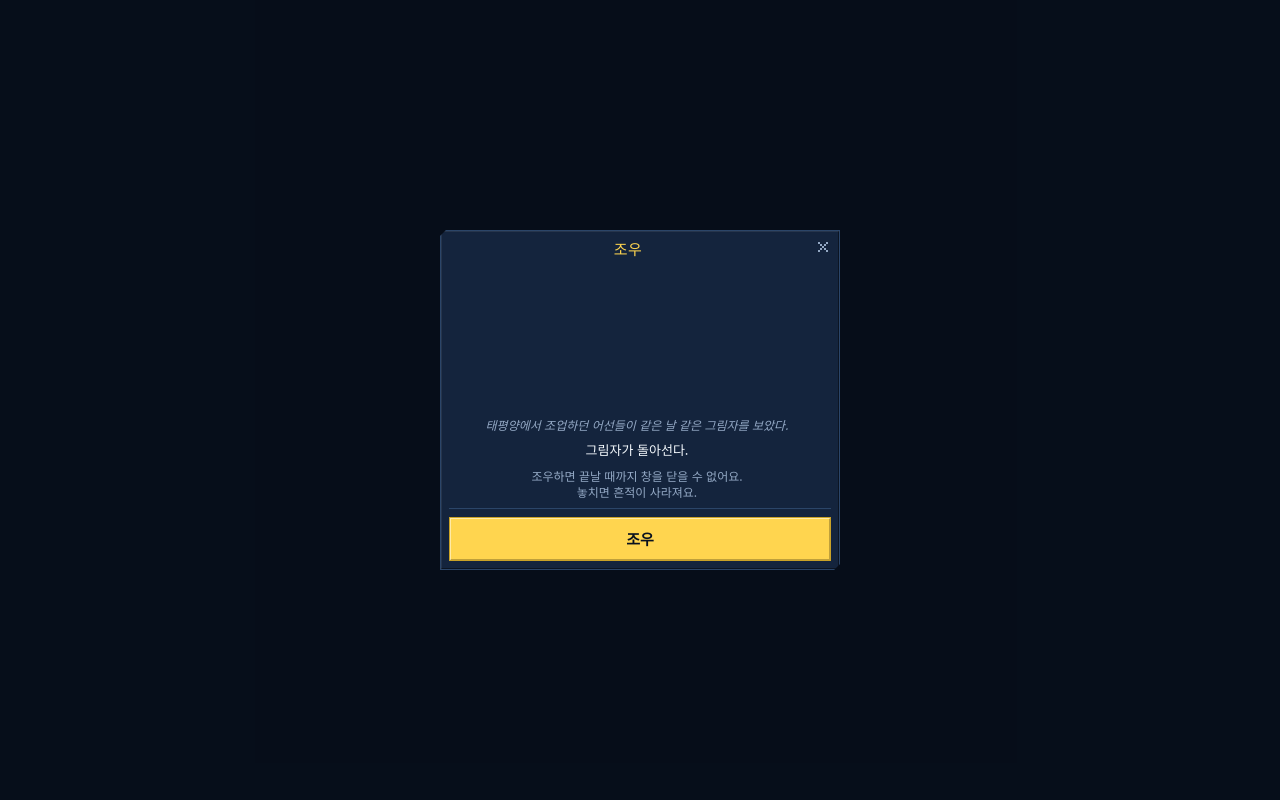
EncounterModal › 들어가며 — 목격담과 그림자, 이름은 부르지 않는다. 조우를 눌러야 바가 돈다
The width and height of the screenshot is (1280, 800).
Expected: the text "태평양에서 조업하던 어선들이 같은 날 같은 그림자를 보았다." is shown, x1=486 y1=416 x2=788 y2=434
Expected: the text "그림자가 돌아선다." is shown, x1=586 y1=440 x2=688 y2=460
Click the button "조우" at point(640, 539), box x1=449 y1=517 x2=831 y2=561
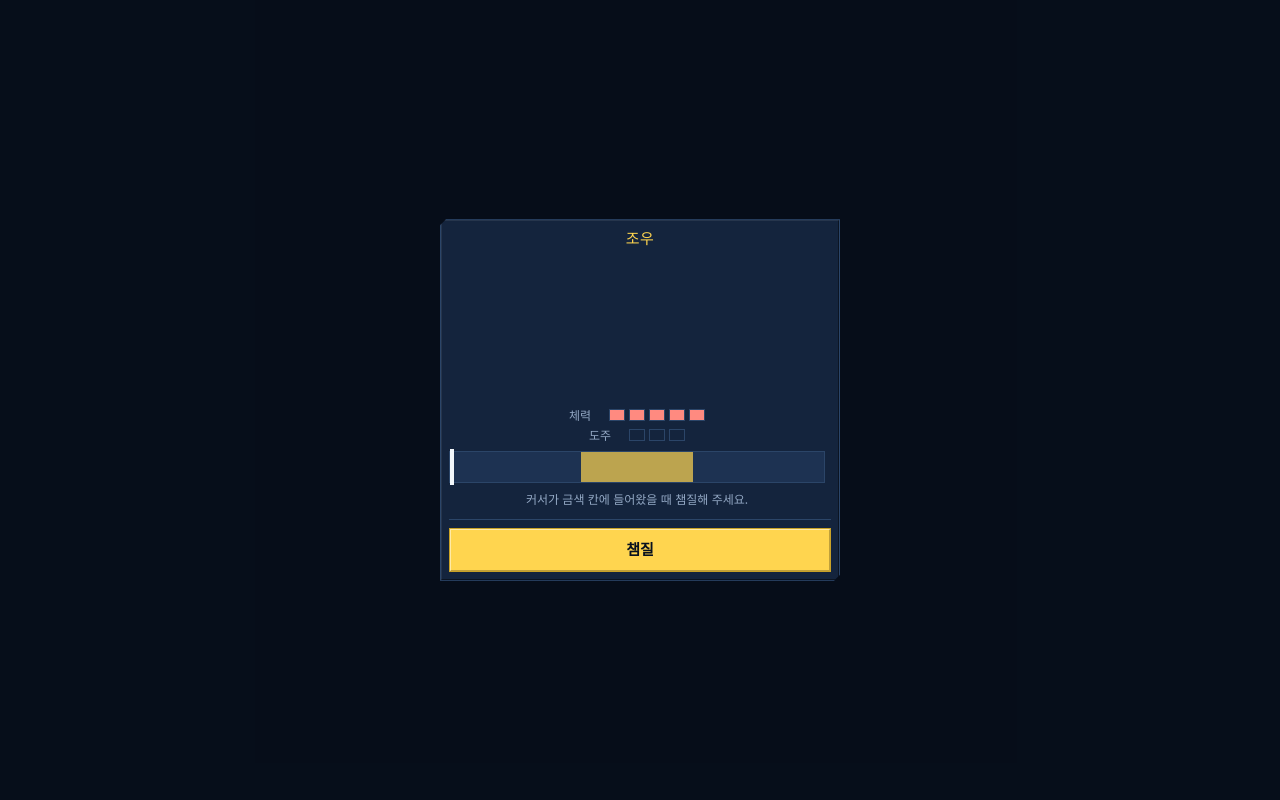
Expected: the button "챔질" is shown, x1=449 y1=528 x2=831 y2=572
